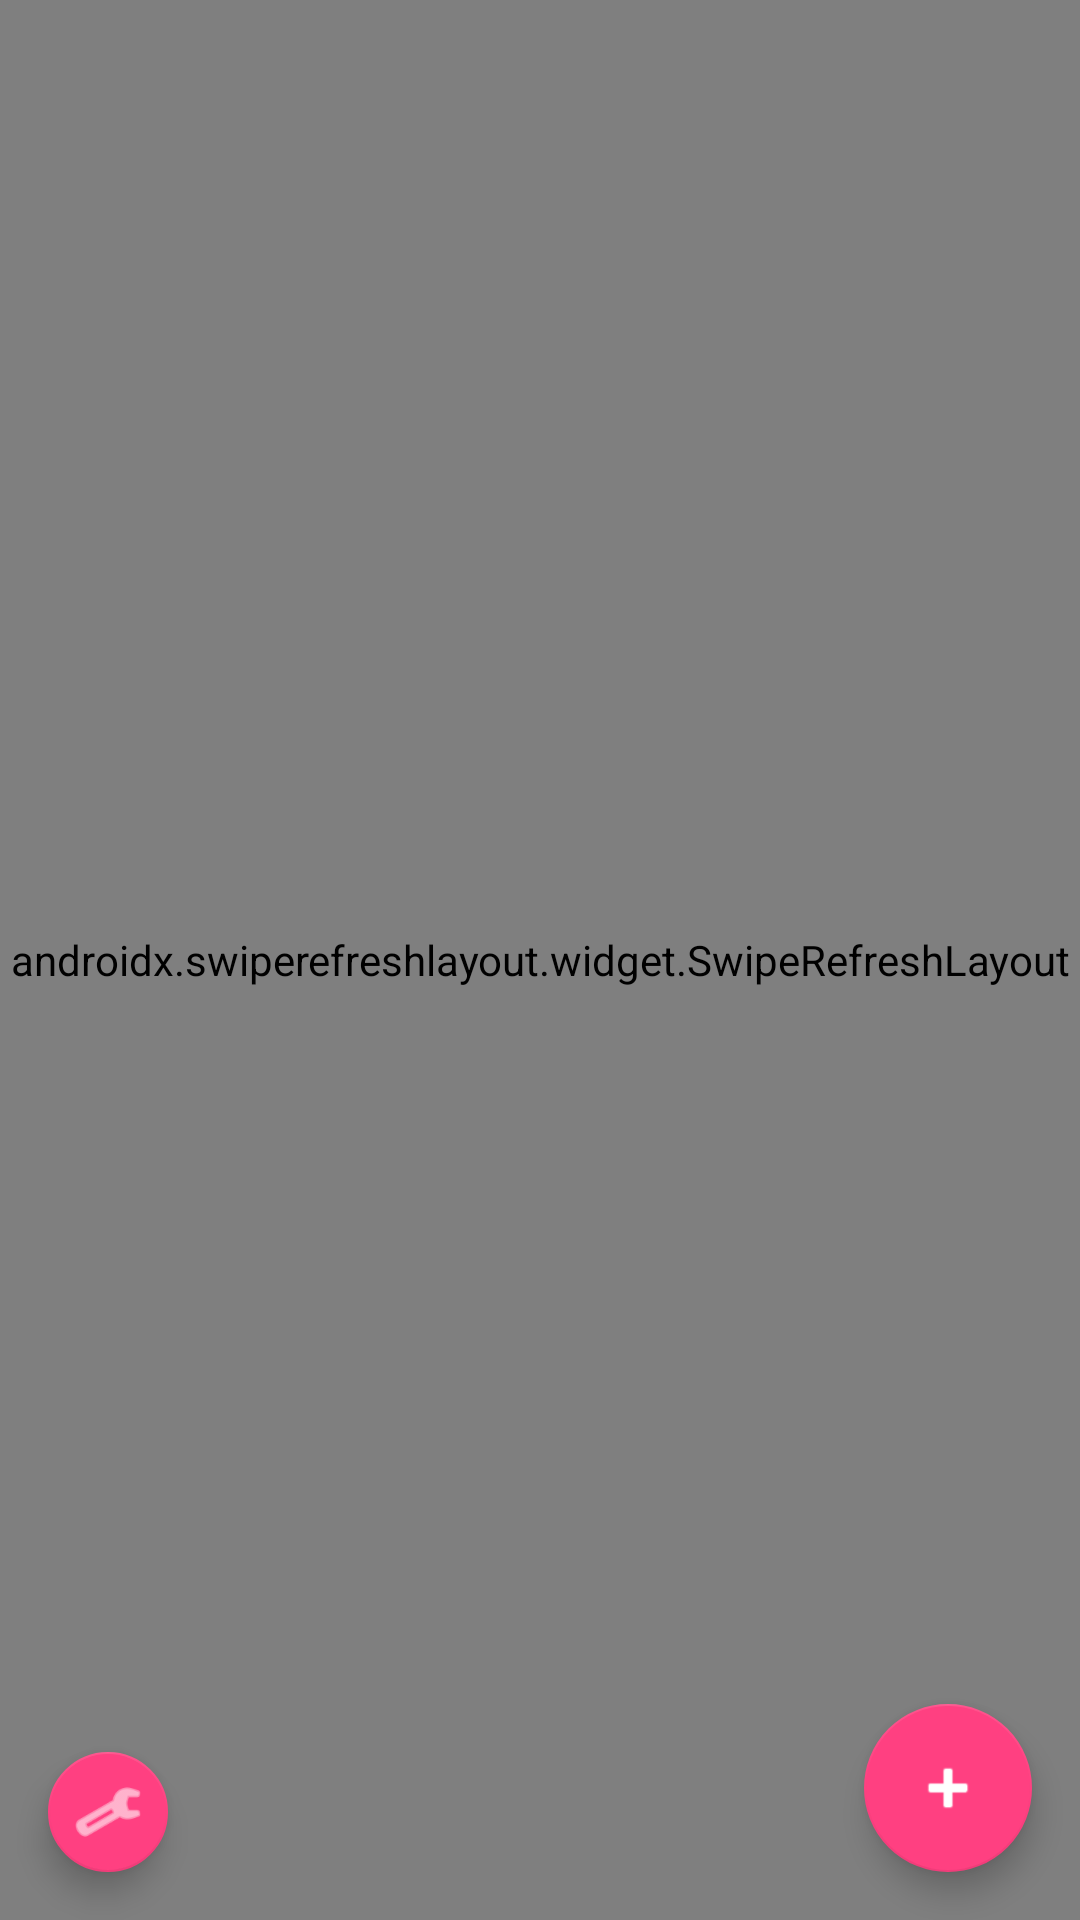

Icons on this 1080px×1920px Android screen, each with the point to tap as point (x, y):
AI 配置: point (108, 1812)
添加订阅: point (948, 1788)
